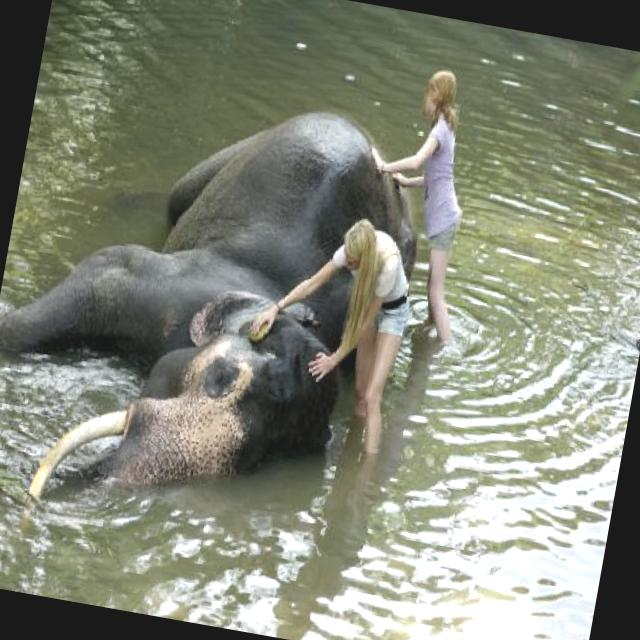Person: (232, 203, 423, 452), (338, 58, 498, 340)
